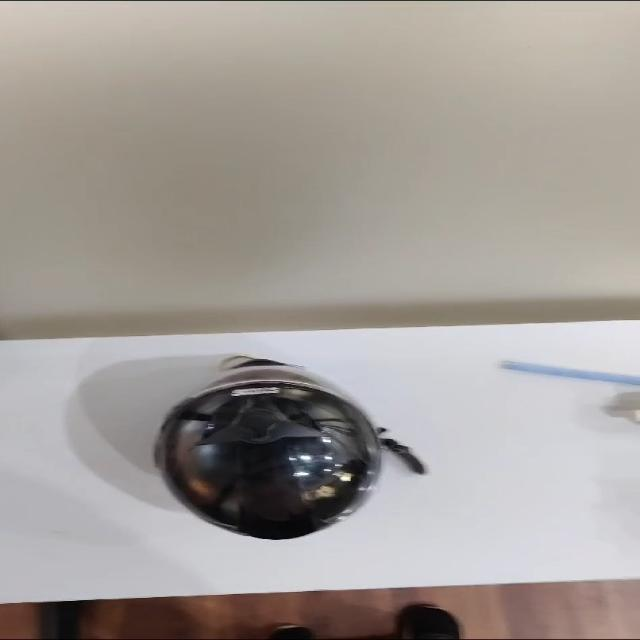helmet: (155, 356, 424, 539)
